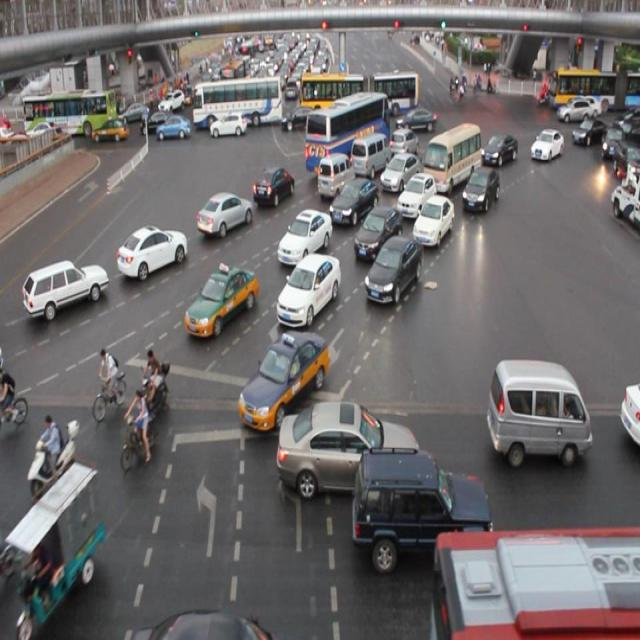car: (351, 448, 493, 567), (276, 402, 420, 501), (237, 328, 330, 432), (180, 265, 253, 344), (24, 256, 110, 320), (274, 251, 340, 332), (360, 232, 422, 310), (117, 223, 188, 280), (274, 212, 330, 270), (344, 209, 396, 271), (197, 190, 253, 238), (412, 192, 455, 250), (327, 178, 378, 224), (392, 172, 434, 221), (254, 165, 297, 206), (461, 166, 498, 212), (380, 149, 421, 188), (480, 132, 517, 167), (530, 128, 564, 164), (390, 126, 419, 161)
truck: (485, 356, 592, 465), (422, 125, 479, 189), (351, 132, 393, 178), (316, 153, 355, 200)
van: (429, 526, 640, 640), (306, 91, 392, 177)
